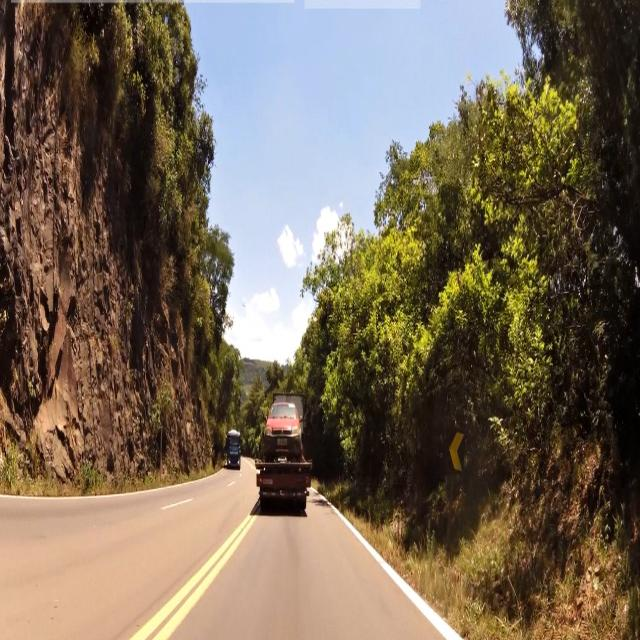Del: (448, 424, 466, 474)
